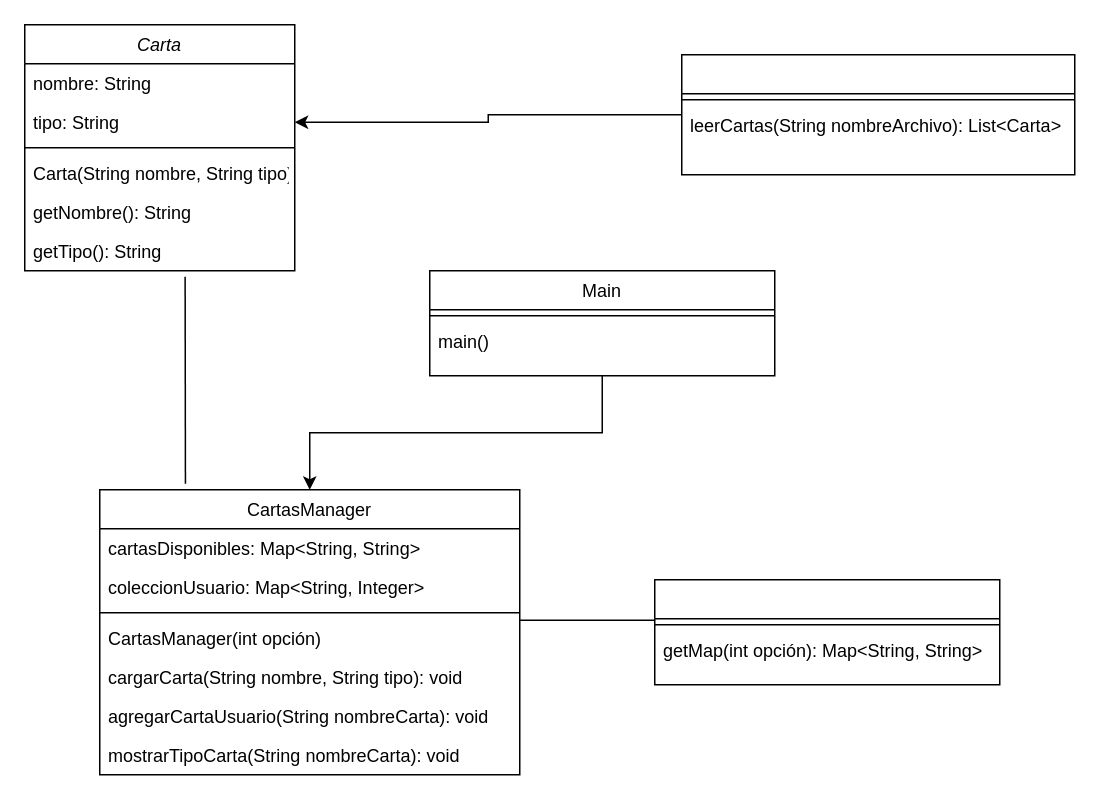
Image size: 1100x800. Some labels were removed from this diagram. The shapes that lost their labels are listed below. From the top down, each one's box as (x1, y1, x2, y2) in pixels, then its label:
(680, 53, 1075, 175): LecturaArchivo
(653, 578, 1000, 685): FactoryMap
